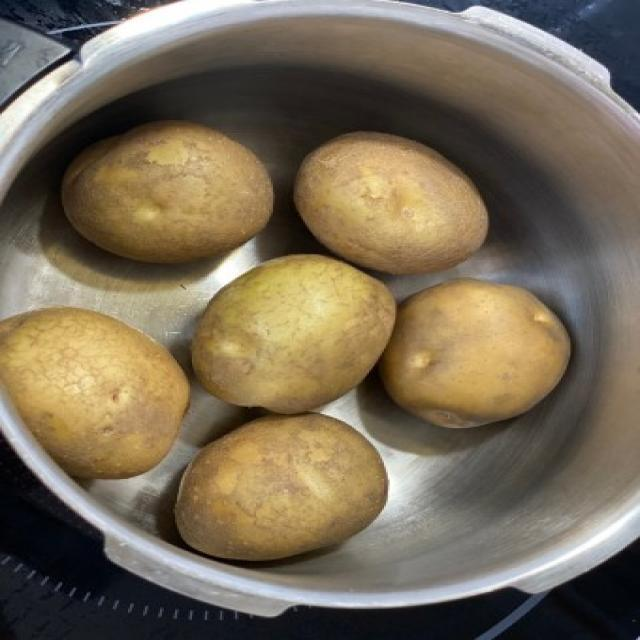potato: (182, 250, 402, 414), (174, 409, 392, 567), (3, 308, 195, 482), (58, 104, 271, 258), (376, 268, 568, 436), (294, 123, 498, 276)
